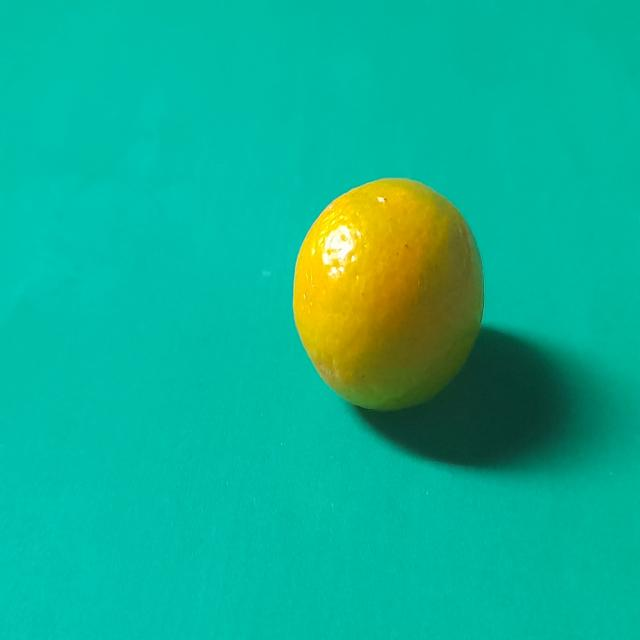greening: (290, 168, 490, 426)
